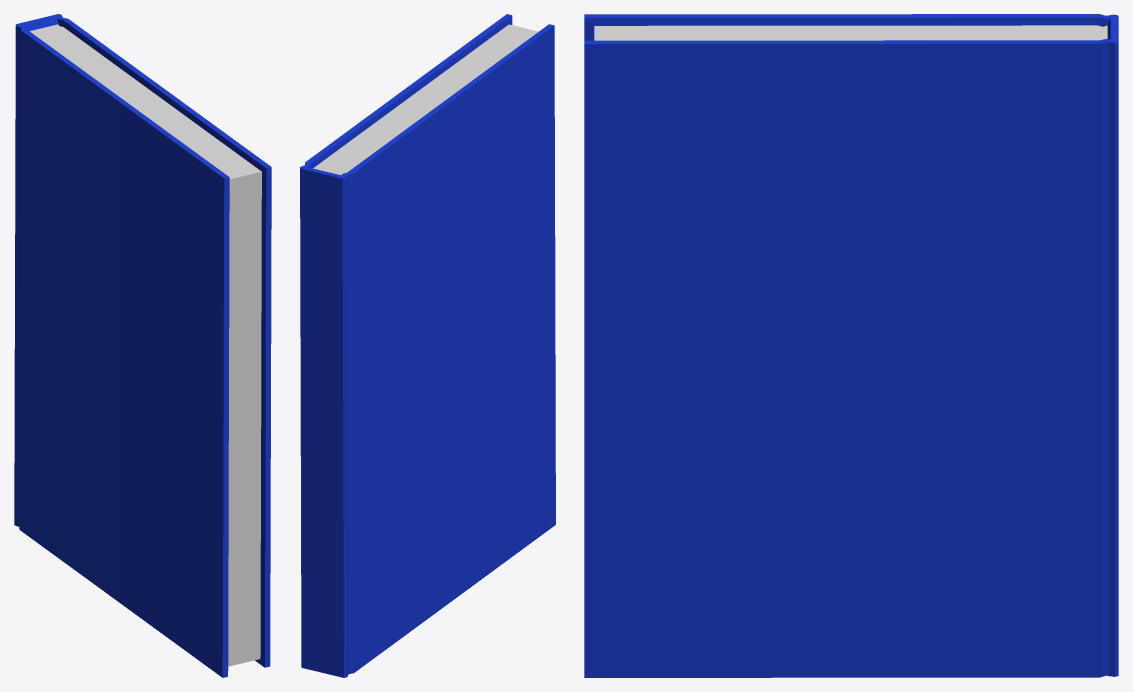
The model's file is BgMD_book_0101.fbx.
3 renders of one model, left to right at view 1: azimuth 30°, elevation 25°; view 2: azimuth 150°, elevation 25°; view 3: azimuth 270°, elevation 25°, orthographic. The views are drawn at different scales.
Parts seen in each view (by area): view 1: MIi_Book_0101; view 2: MIi_Book_0101; view 3: MIi_Book_0101.
Boxes of the visible parts, bbox=[...] form: MIi_Book_0101: bbox=[14, 14, 271, 677]; MIi_Book_0101: bbox=[300, 14, 555, 677]; MIi_Book_0101: bbox=[584, 14, 1118, 677].
Size of the model in its own units: 0.0202 by 0.1941 by 0.1481.
